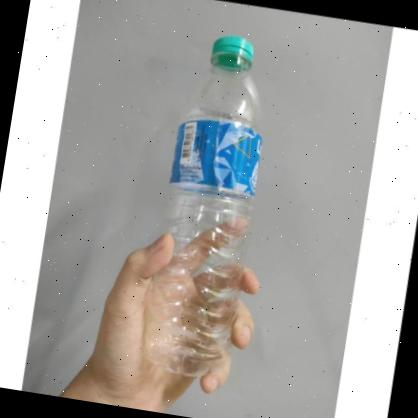bottle: (138, 27, 283, 381)
cap: (212, 32, 256, 70)
label: (171, 116, 264, 198)
